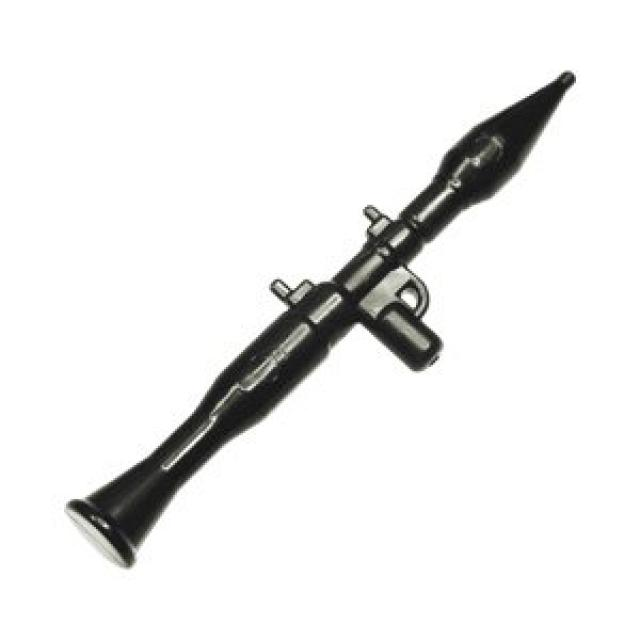bazooka: (46, 64, 589, 579)
